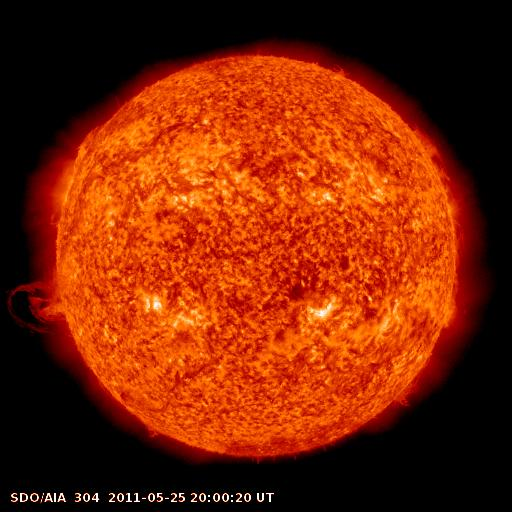prominence: (407, 121, 480, 335), (4, 273, 77, 343), (384, 365, 436, 415), (67, 116, 109, 174)
